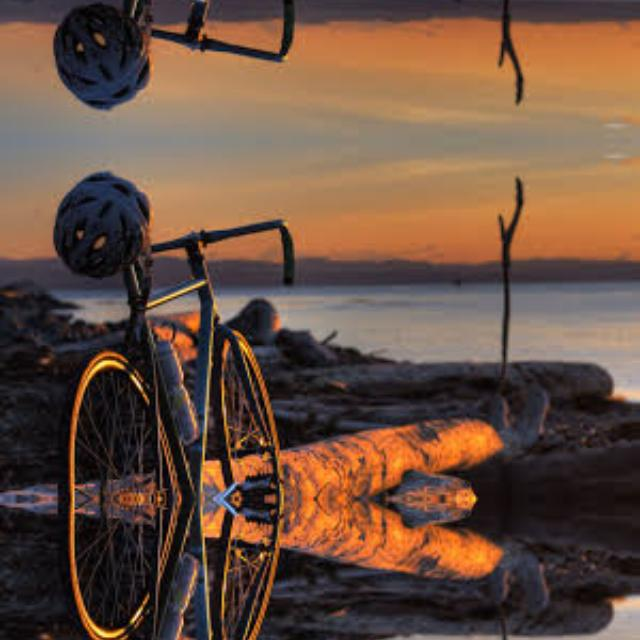obstacle: (47, 186, 303, 498), (47, 498, 303, 640), (47, 0, 303, 94)
